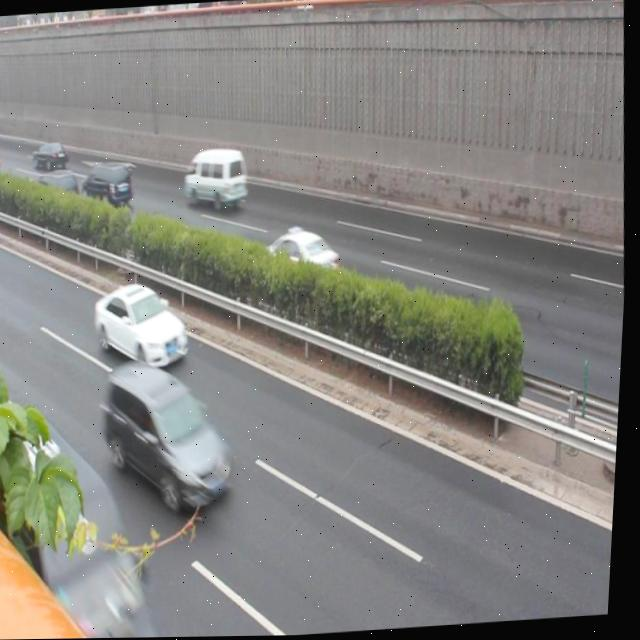car: (102, 353, 247, 520), (89, 279, 195, 383), (263, 221, 350, 291)
truck: (0, 406, 182, 640), (182, 146, 250, 213), (84, 158, 136, 212)
